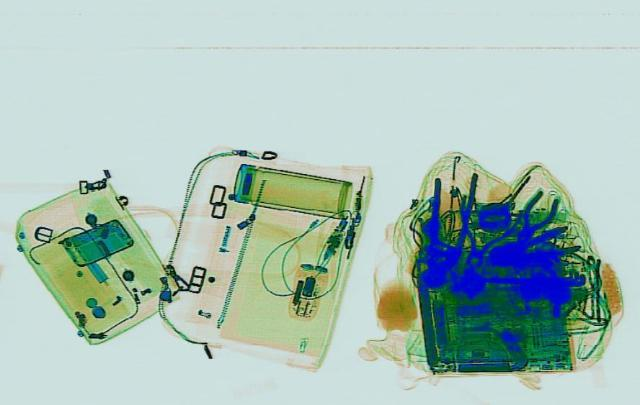Pliers: (412, 170, 480, 277), (437, 193, 528, 272), (474, 222, 588, 275), (504, 189, 564, 250)
